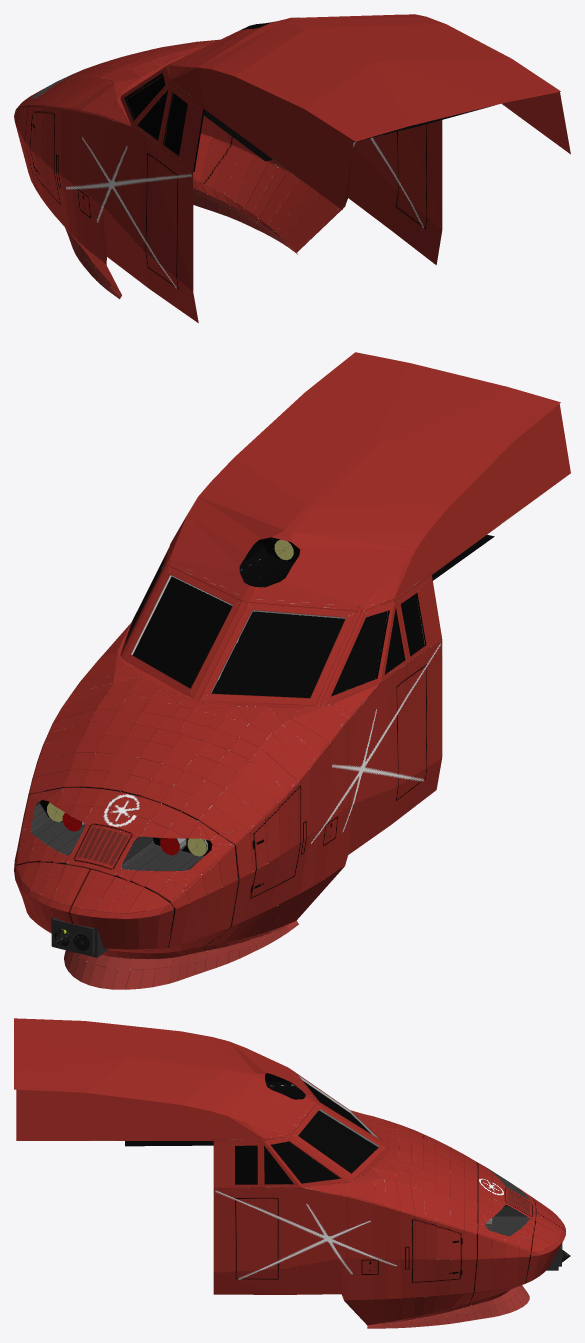
Rendered from tgv_atlantique_thalys_eurostar.obj.
3 renders of one model, top to bottom at view 1: azimuth 30°, elevation 25°; view 2: azimuth 150°, elevation 25°; view 3: azimuth 270°, elevation 25°, orthographic. The views are drawn at different scales.
Parts seen in each view (by area): view 1: car1_exterior, car1_glass, car1_interior; view 2: car1_exterior, car1_glass, car1_coupler_closed, car1_coupler_open, car1_light_yellow; view 3: car1_exterior, car1_glass, car1_coupler_closed, car1_interior.
Part boxes in pixels (x1,y1,x2,y2): car1_exterior: (14,14,570,322); car1_glass: (127,76,187,154); car1_interior: (124,98,494,171); car1_exterior: (14,352,570,989); car1_glass: (133,576,424,697); car1_coupler_closed: (14,862,174,951); car1_coupler_open: (40,864,155,957); car1_light_yellow: (47,539,293,856); car1_exterior: (14,1018,536,1328); car1_glass: (235,1081,378,1184); car1_coupler_closed: (526,1198,565,1283); car1_interior: (125,1139,213,1146).
Bounding box in the file's own units: 2.92 × 3.82 × 7.85.
1 material, 1 textured.
